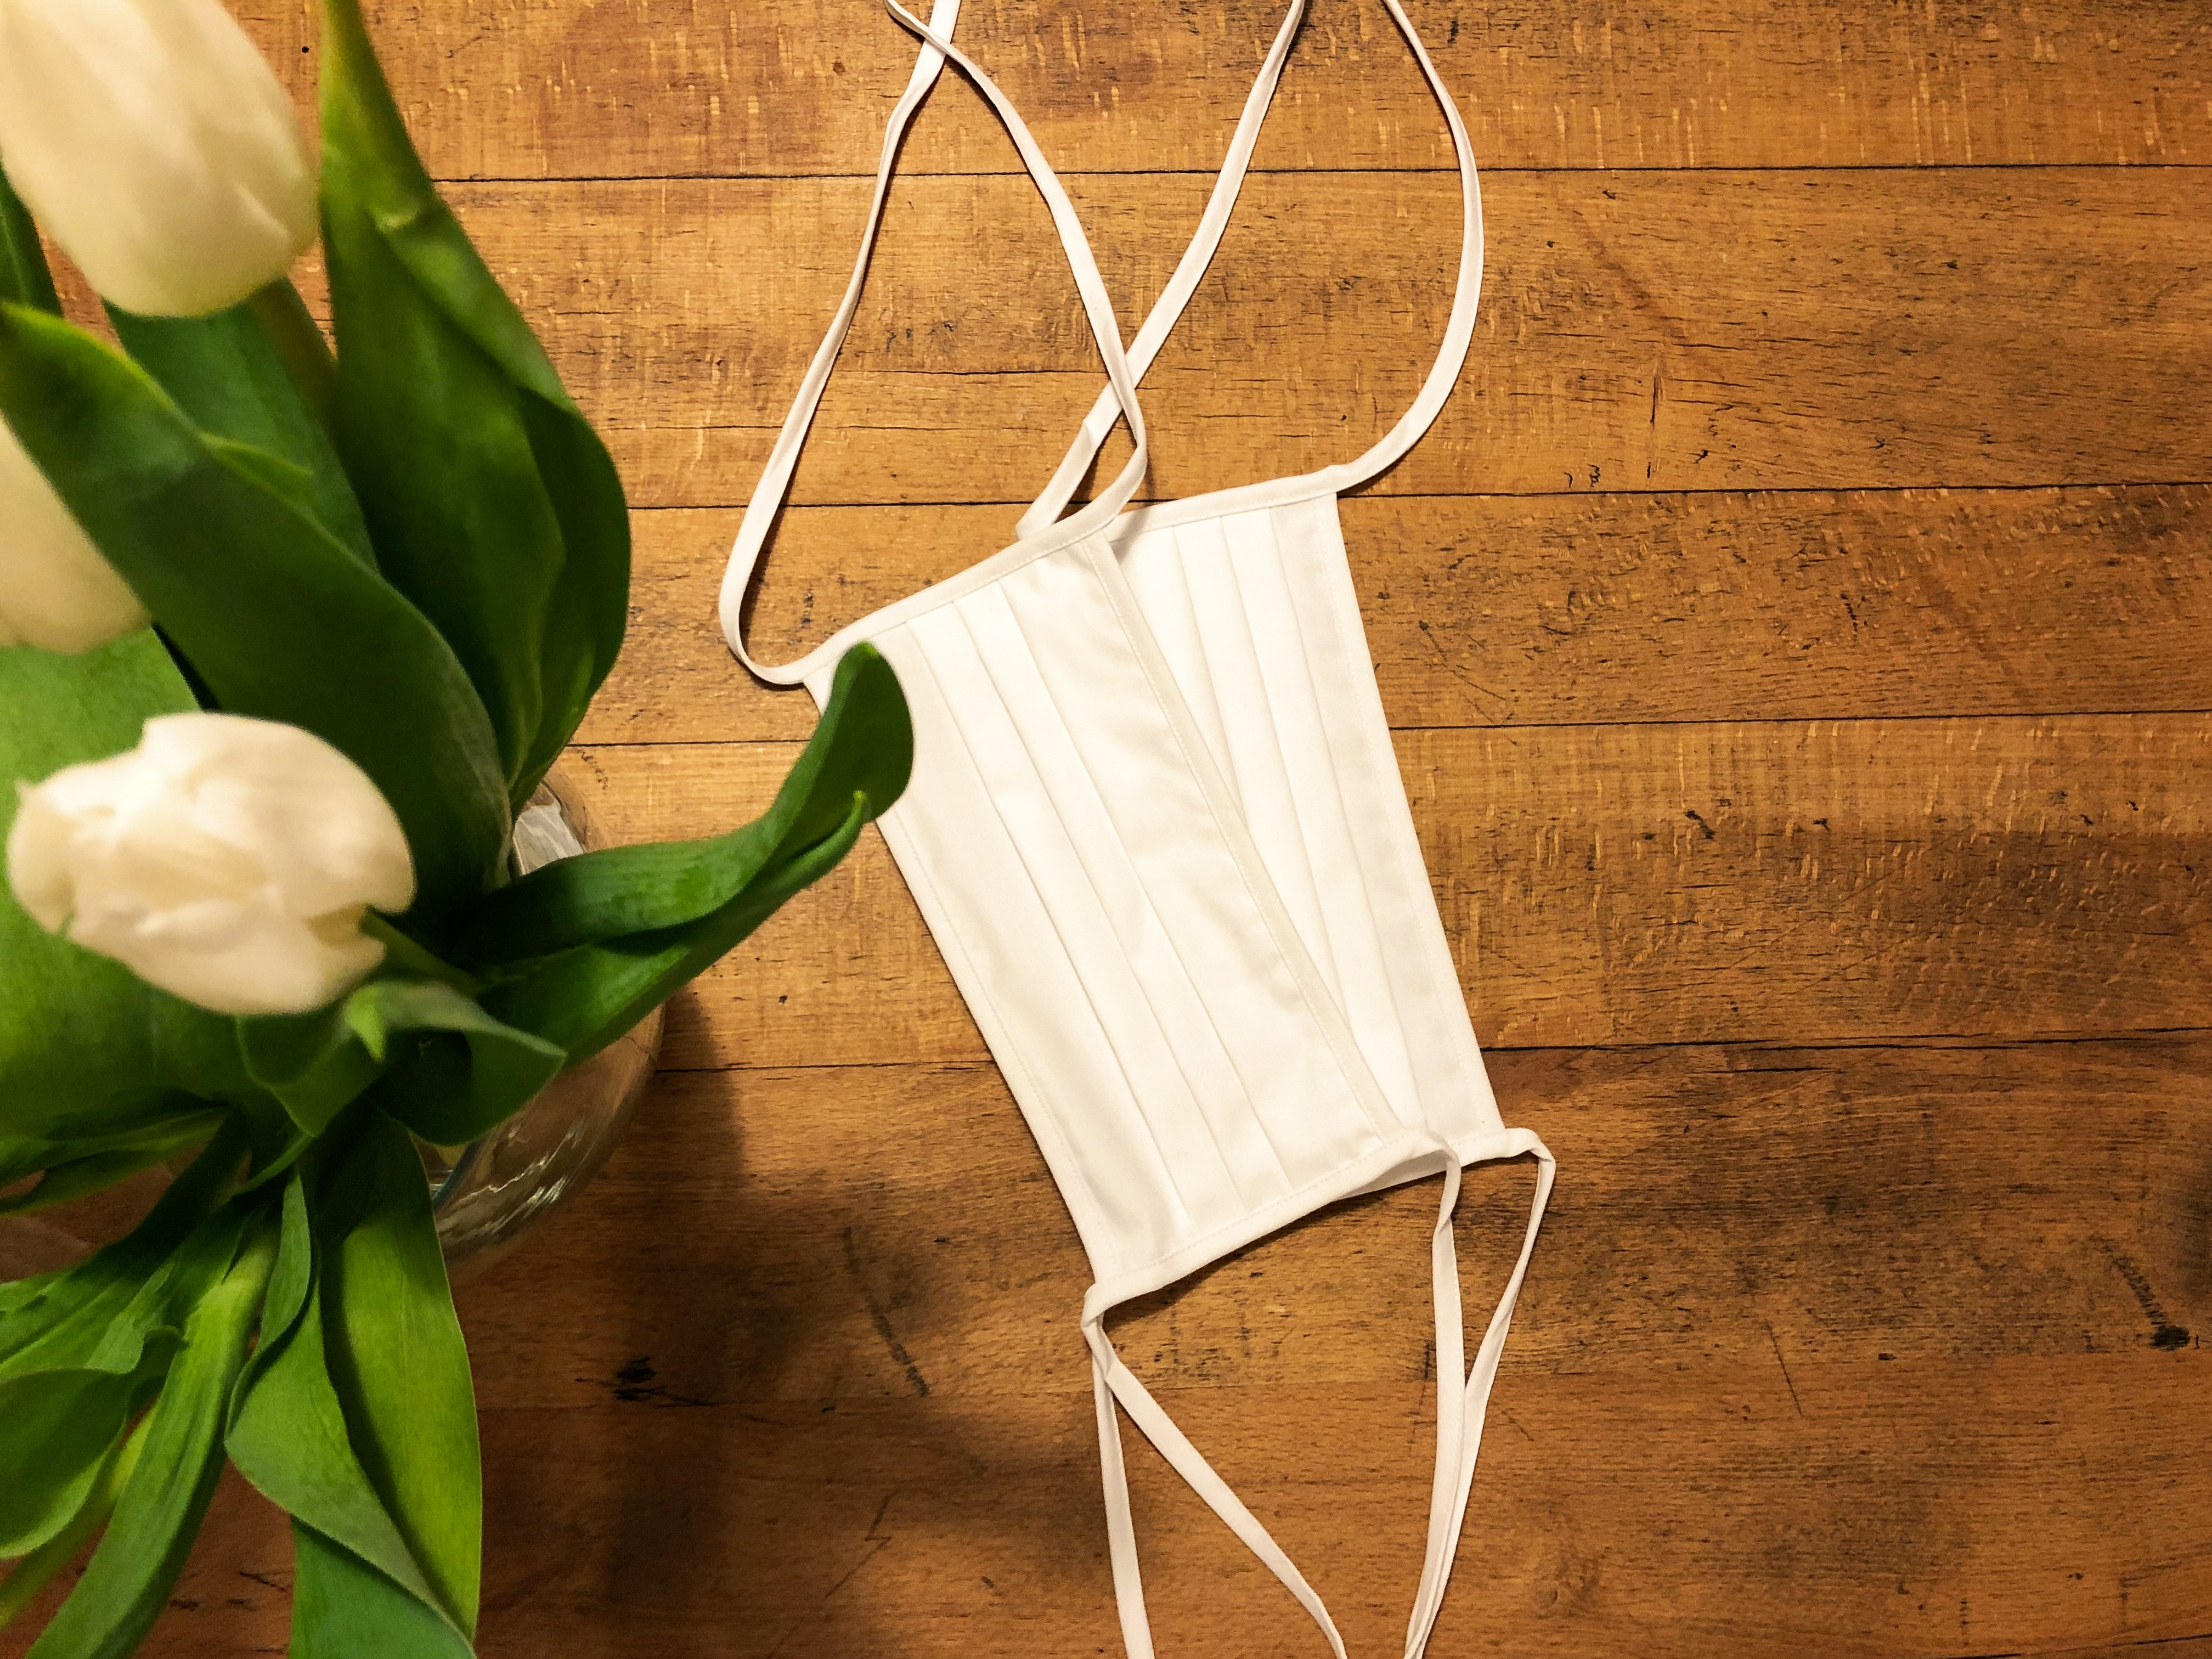mask: (763, 502, 1472, 1326)
